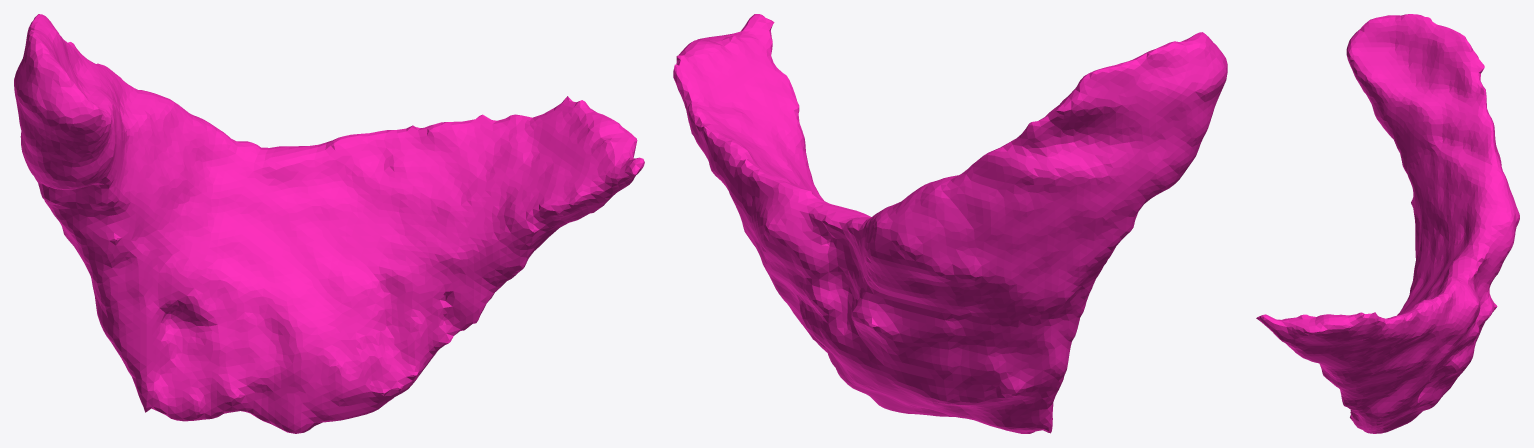
The model's file is proatlas.glb.
The picture shows the model from 3 angles, left to right: view 1: azimuth 30°, elevation 25°; view 2: azimuth 150°, elevation 25°; view 3: azimuth 270°, elevation 25°; orthographic projection. The views are drawn at different scales.
Visible parts, largest first — view 1: proatlas; view 2: proatlas; view 3: proatlas.
Boxes of the visible parts, x1,y1,x2,y2 form: proatlas: [14, 14, 644, 433]; proatlas: [673, 14, 1227, 433]; proatlas: [1256, 14, 1519, 433].
Size of the model in its own units: 0.00577 by 0.00428 by 0.00324.
